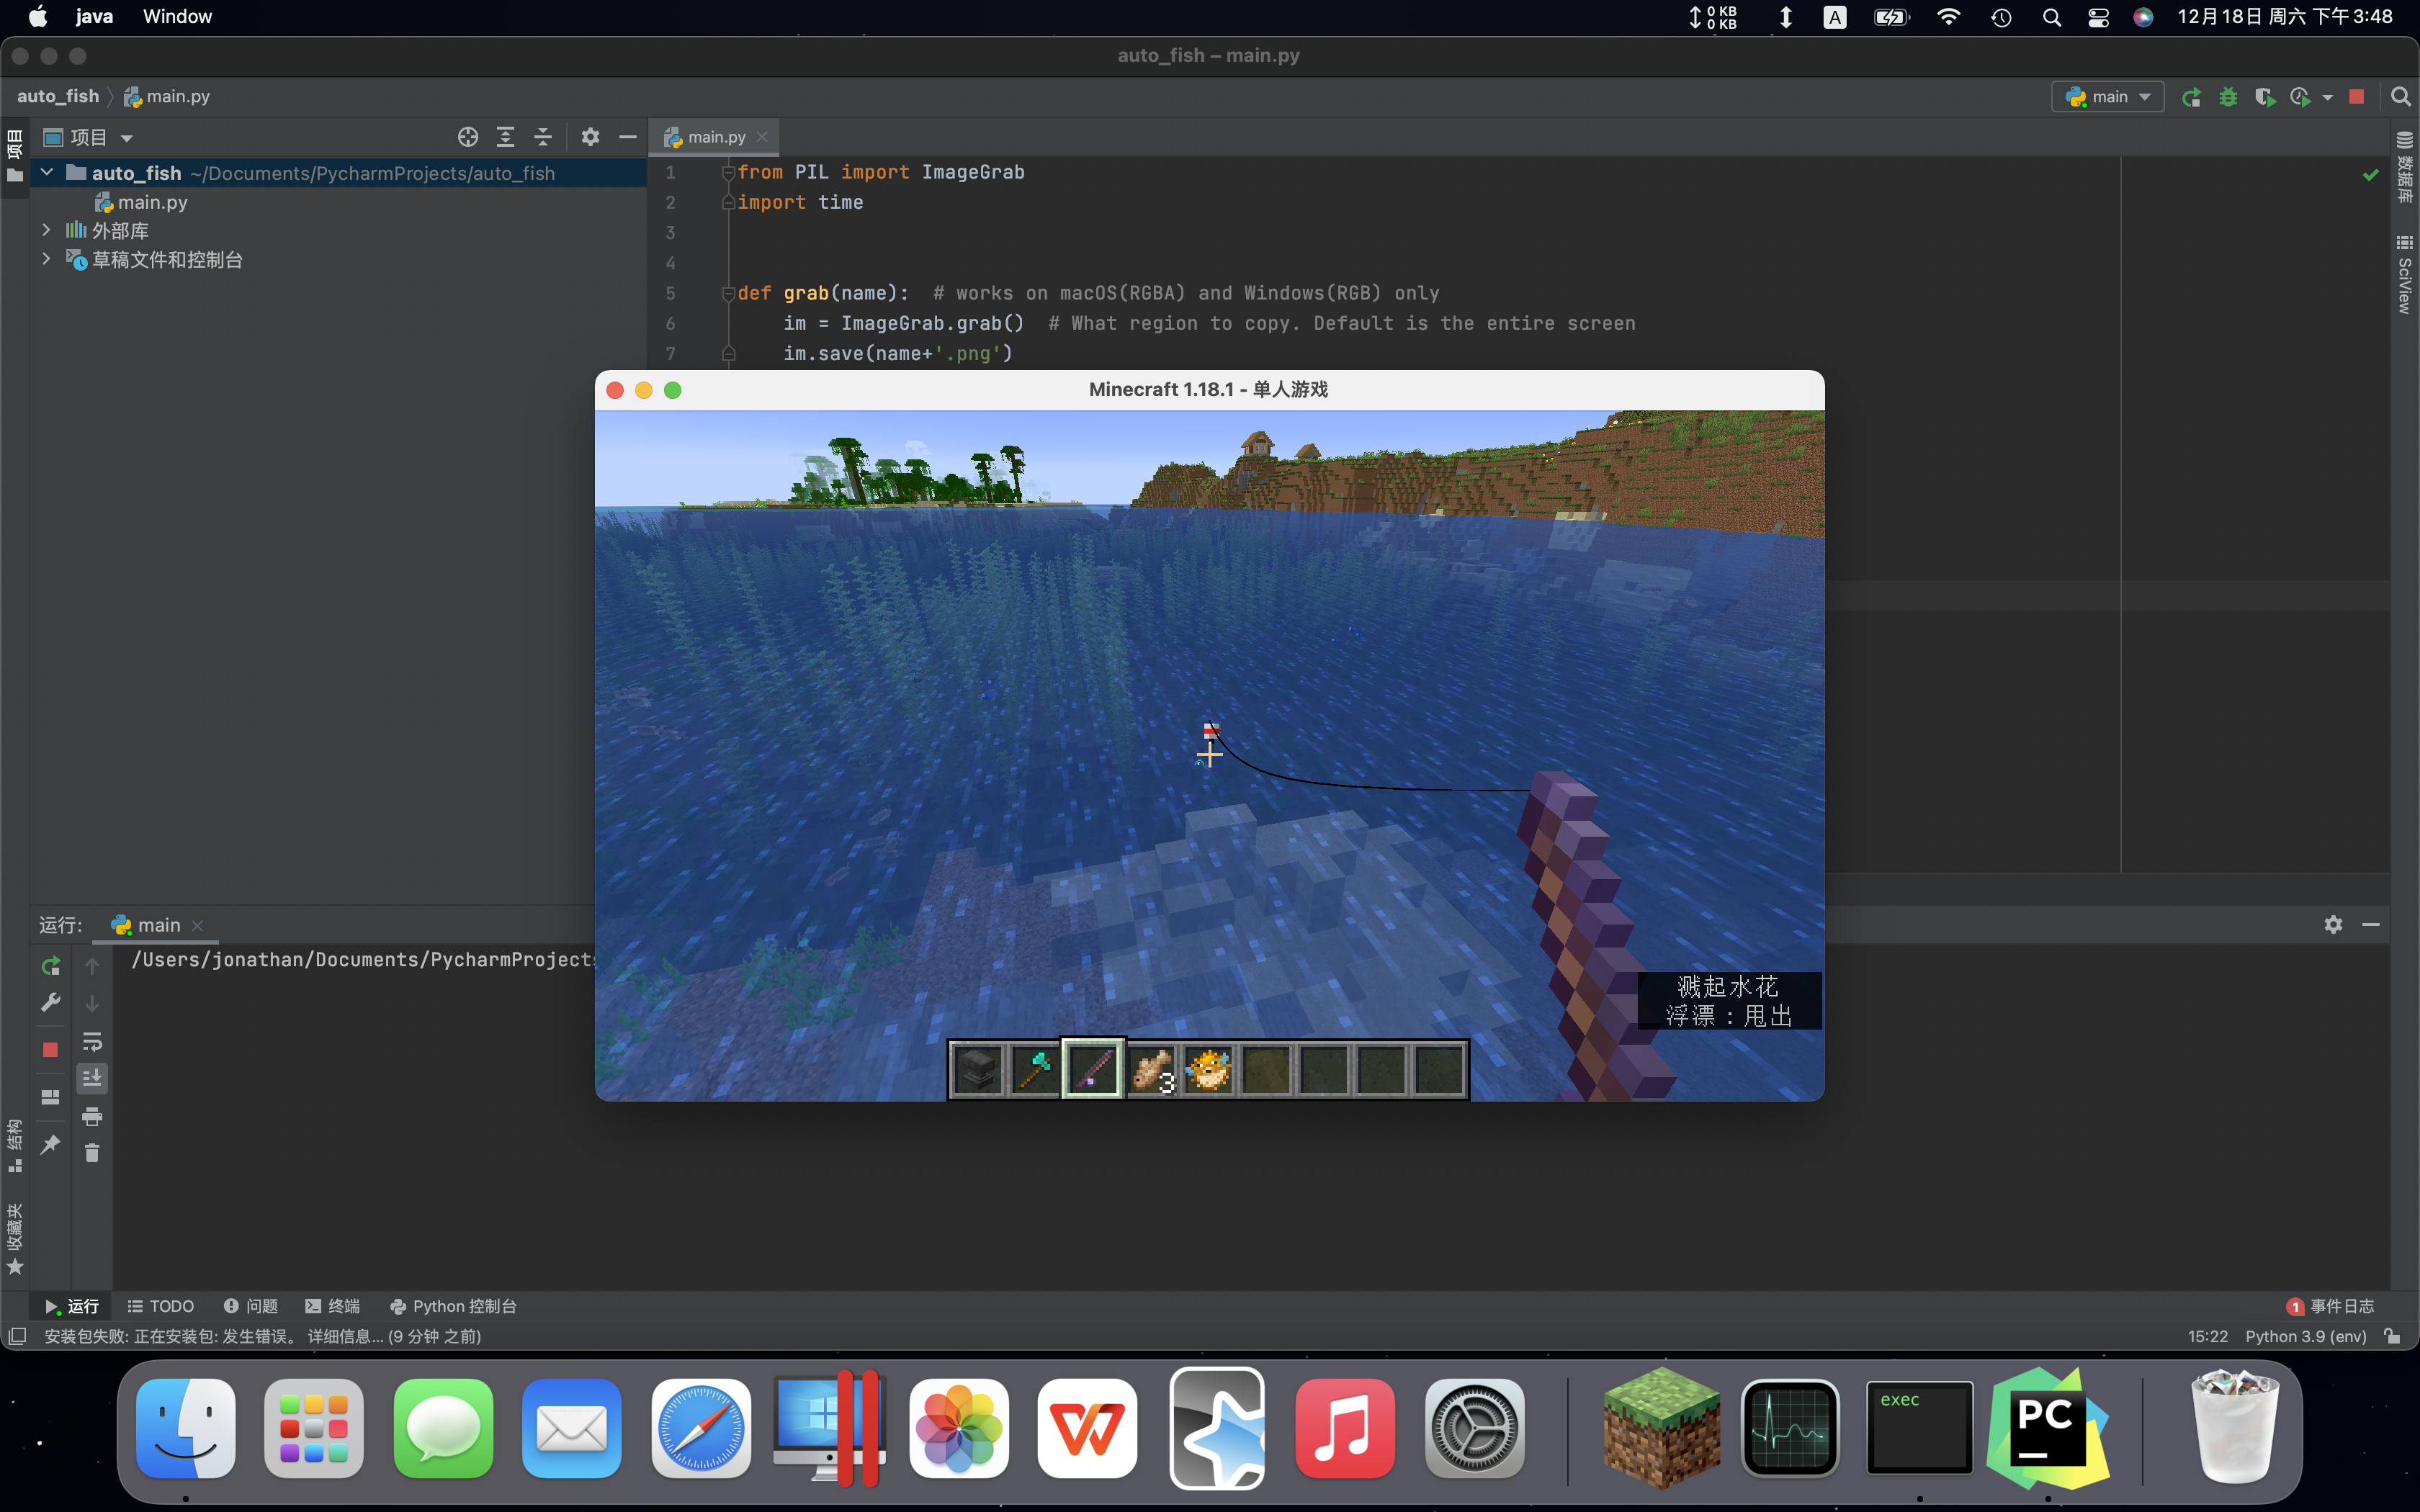inf: (1638, 972, 1821, 1028)
